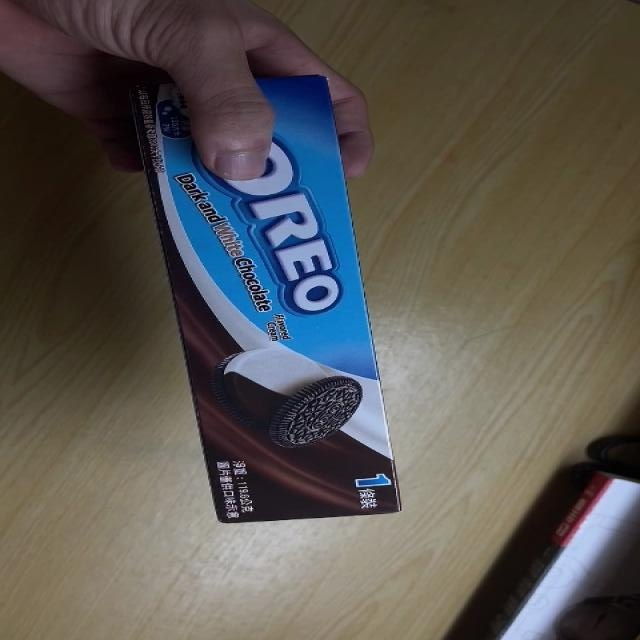Oreo: (112, 74, 404, 524)
